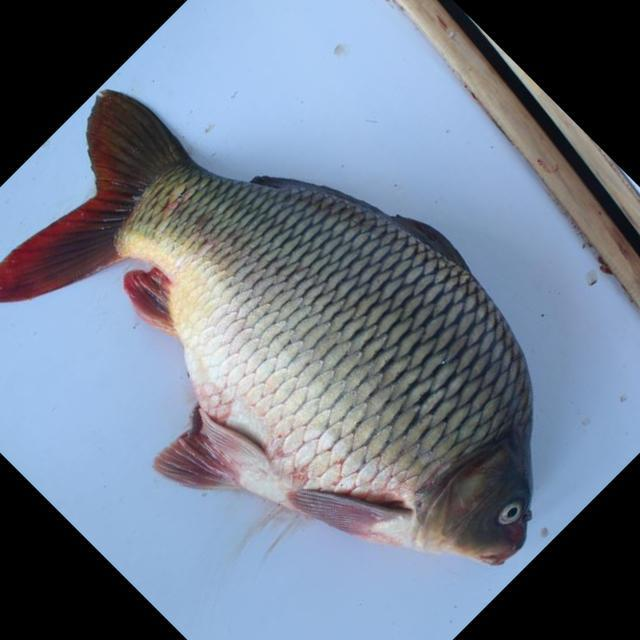CommonCarp: (9, 87, 578, 585)
